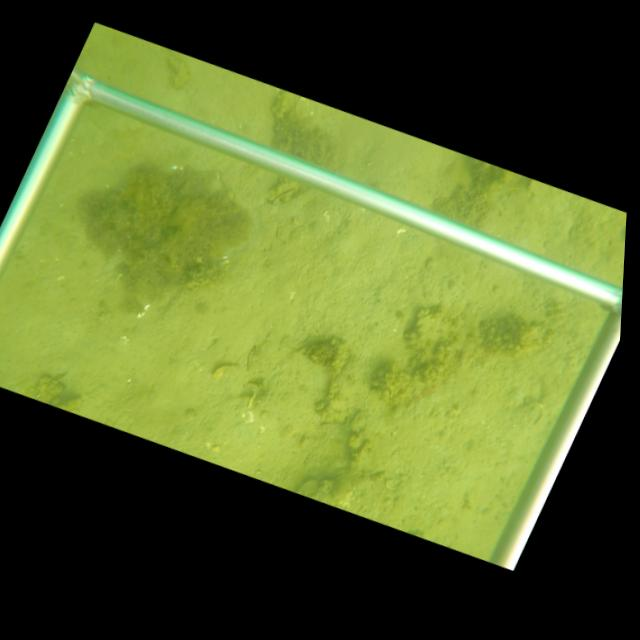Oyster-Indeterminate: (210, 364, 234, 380)
